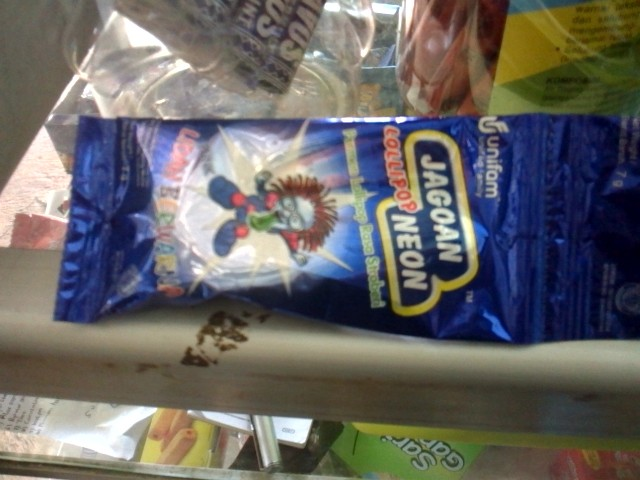jagoan neon: (52, 112, 556, 346)
